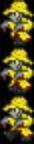zombie: (0, 95, 34, 144), (0, 0, 34, 47), (0, 47, 34, 94)
